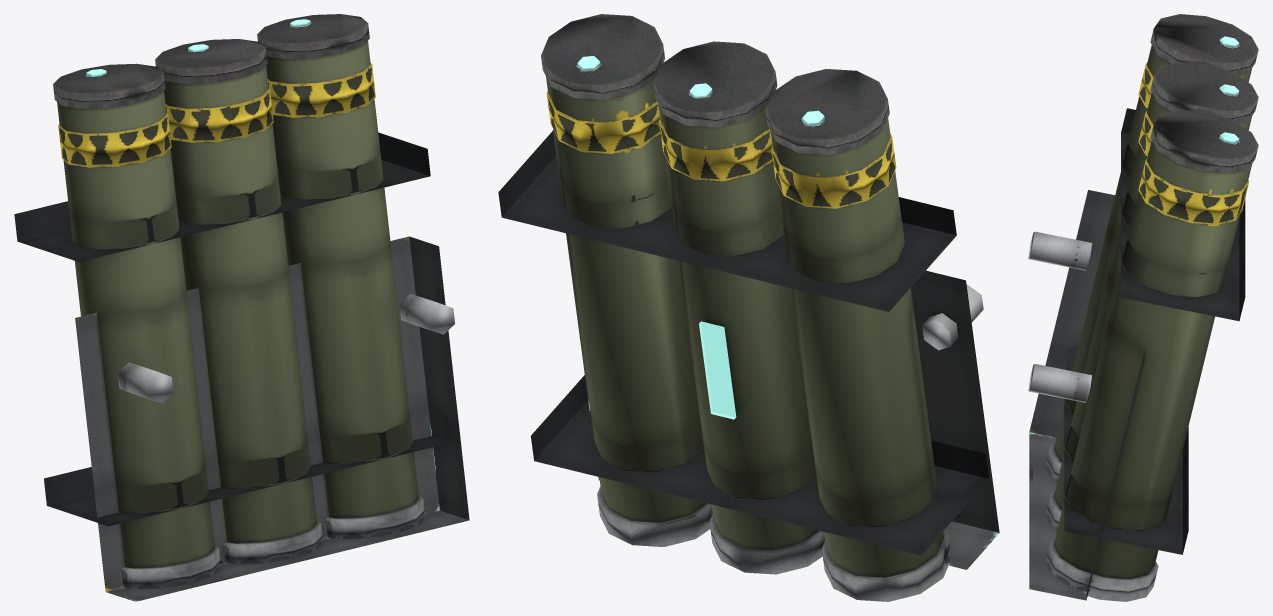
The model's file is sd3_shrike_drone.gltf.
3 views of the same model, side by side, from view 1: azimuth 30°, elevation 25°; view 2: azimuth 150°, elevation 25°; view 3: azimuth 270°, elevation 25° (orthographic). The views are drawn at different scales.
Visible parts, largest first — view 1: B_chest__sd3_shrike_drone; view 2: B_chest__sd3_shrike_drone; view 3: B_chest__sd3_shrike_drone.
Boxes of the visible parts, x1,y1,x2,y2 form: B_chest__sd3_shrike_drone: (14,14,469,601); B_chest__sd3_shrike_drone: (498,14,999,601); B_chest__sd3_shrike_drone: (1028,14,1258,601).
Bounding box in the file's own units: 0.2 × 0.2611 × 0.1179.
Materials: 1 (1 with a texture image).
